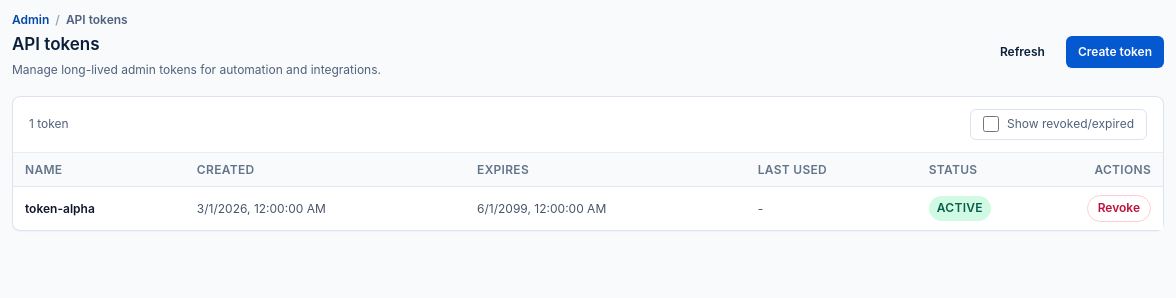
Test: ApiTokensPage list states › keeps existing rows on refresh failure and does not show table error row
Expected: the text "token-alpha" is shown, [13, 187, 185, 230]
Click the button "Refresh" at (1022, 52), box [987, 36, 1058, 68]
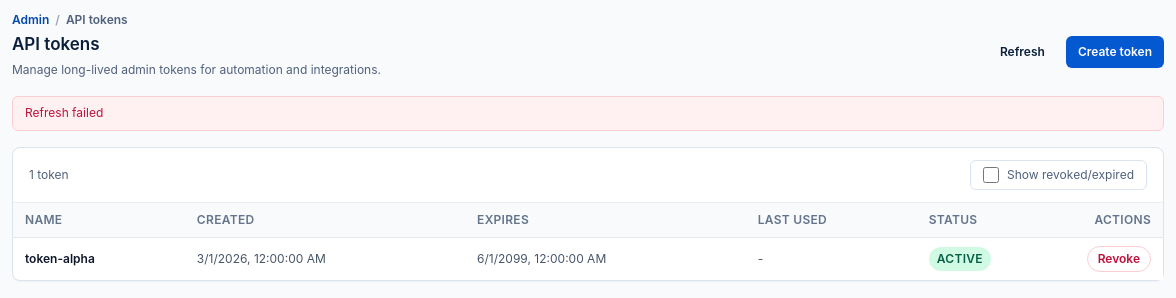
Expected: the text "token-alpha" is shown, [13, 237, 185, 280]
Expected: the text "Refresh failed" is shown, [12, 96, 1164, 130]
